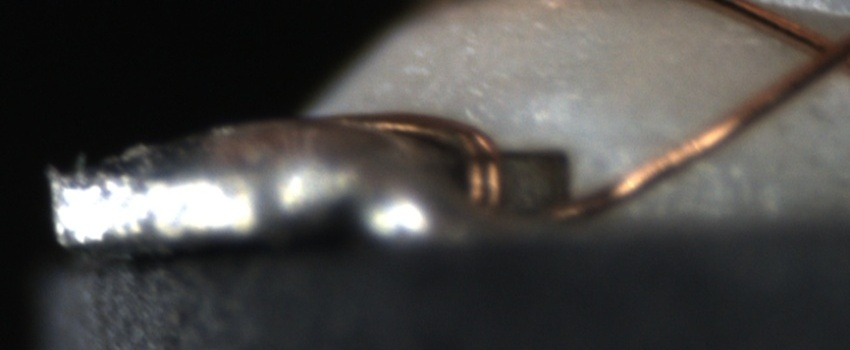CL: (798, 19, 850, 81)
TE: (328, 105, 512, 214)
